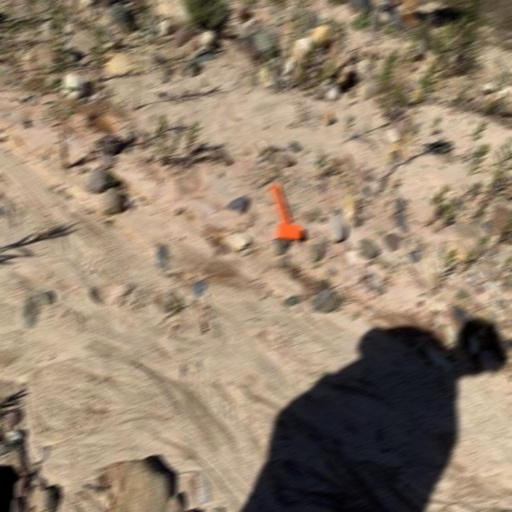mallet: (270, 182, 305, 242)
